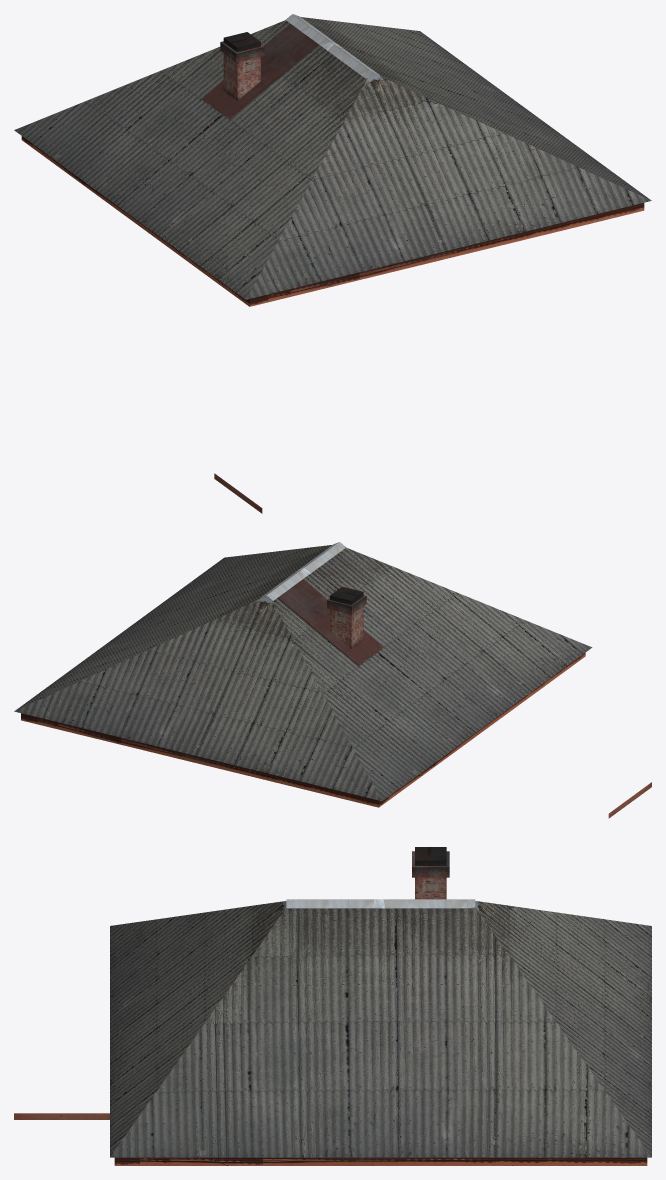
The model's file is Roof_villagehouse.FBX.
The picture shows the model from 3 angles, top to bottom: view 1: azimuth 30°, elevation 25°; view 2: azimuth 150°, elevation 25°; view 3: azimuth 270°, elevation 25°; orthographic projection. The views are drawn at different scales.
Visible parts, largest first — view 1: Box002; view 2: Box002; view 3: Box002.
Boxes of the visible parts, bbox=[...] form: Box002: bbox=[14, 14, 651, 513]; Box002: bbox=[14, 542, 651, 818]; Box002: bbox=[14, 847, 651, 1165].
Bounding box in the file's own units: 359 × 243 × 394.
